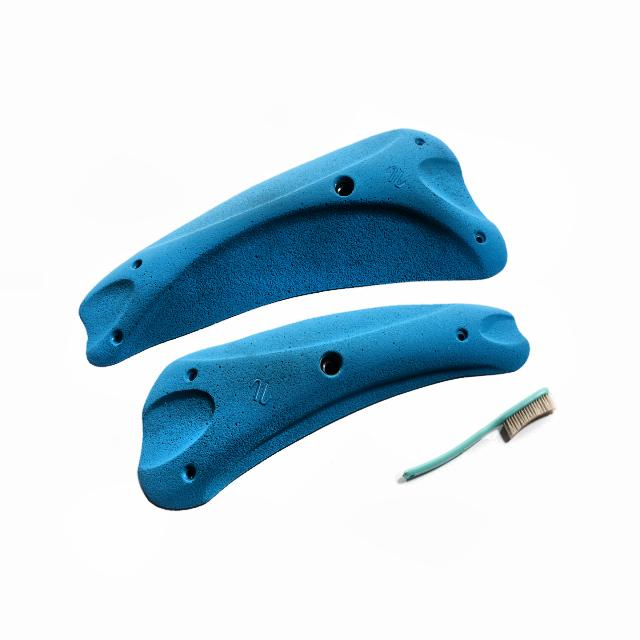Hold: (57, 99, 525, 391), (118, 300, 543, 529)
